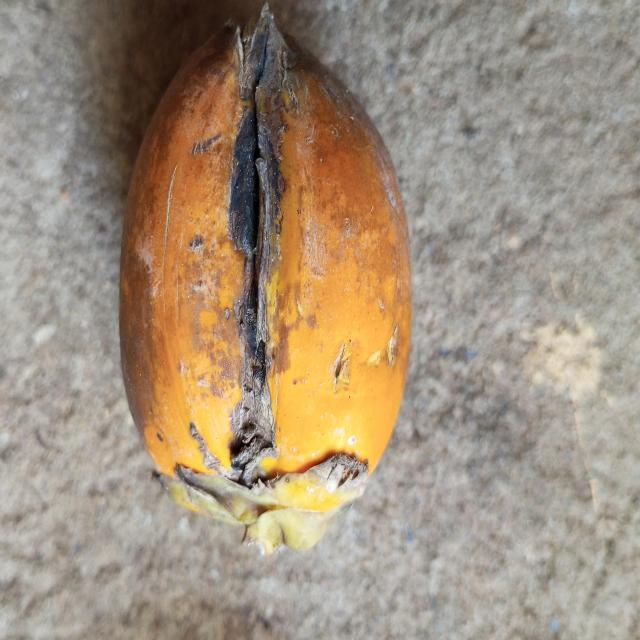damaged: (120, 5, 412, 554)
